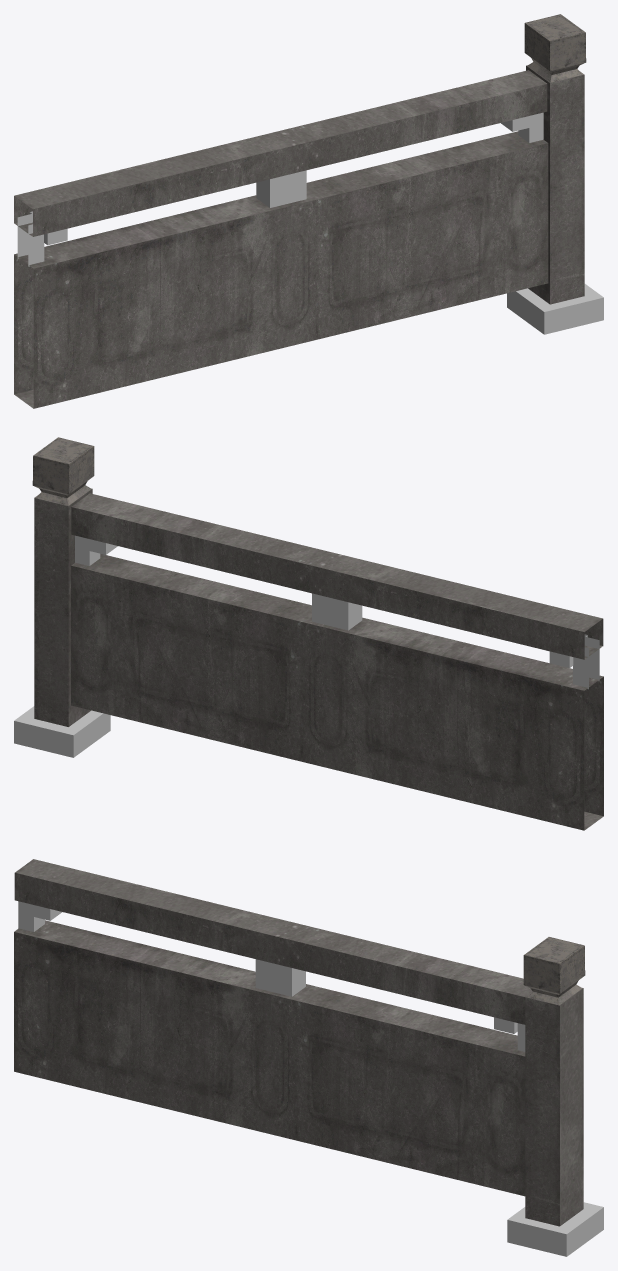
Rendered from GongTingLanGan_3.fbx.
The picture shows the model from 3 angles, top to bottom: view 1: azimuth 30°, elevation 25°; view 2: azimuth 150°, elevation 25°; view 3: azimuth 330°, elevation 25°; orthographic projection.
Parts seen in each view (by area): view 1: 3D_GongTingLanGan3.mo; view 2: 3D_GongTingLanGan3.mo; view 3: 3D_GongTingLanGan3.mo.
Part boxes in pixels (<box>): 3D_GongTingLanGan3.mo: <box>14,14,603,408</box>; 3D_GongTingLanGan3.mo: <box>14,437,603,830</box>; 3D_GongTingLanGan3.mo: <box>14,859,603,1256</box>.
Size of the model in its own units: 199 by 96.99 by 22.85.
